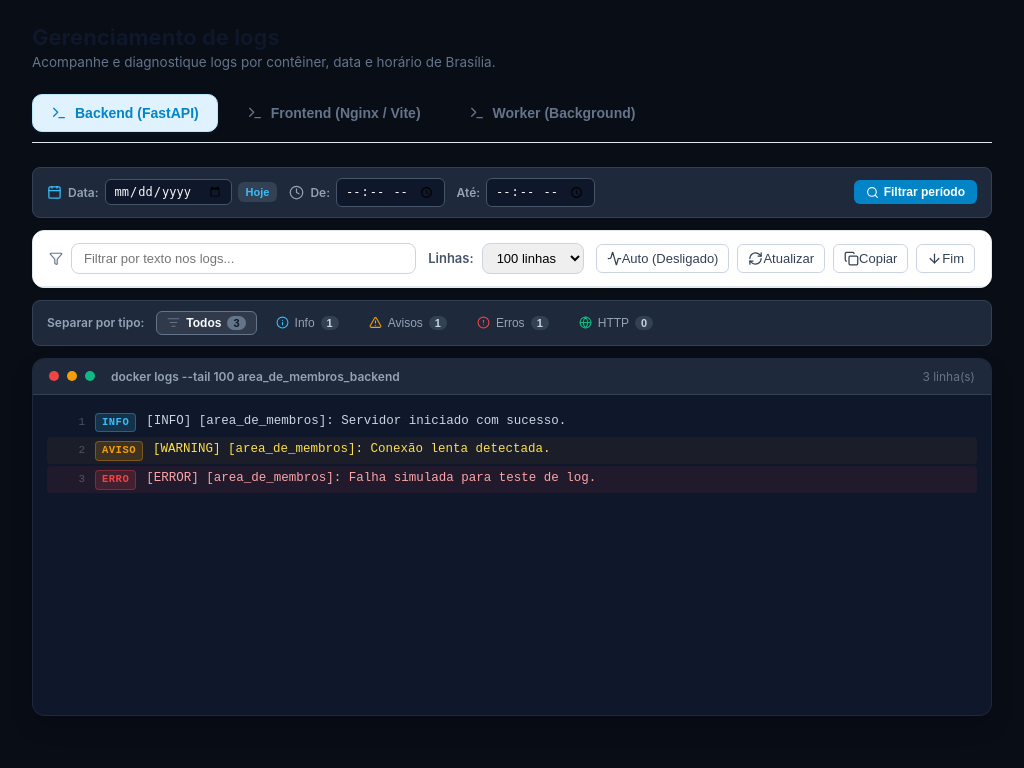
Test: LogManagement Component › filters logs by type when clicking filter buttons
Expected: the text "[INFO] [area_de_membros]: Servidor iniciado com sucesso." is shown, [146, 414, 566, 428]
Note: Clica no filtro "Erros"
Click the button with test id "filter-btn-error" at [513, 323], box [466, 311, 560, 335]
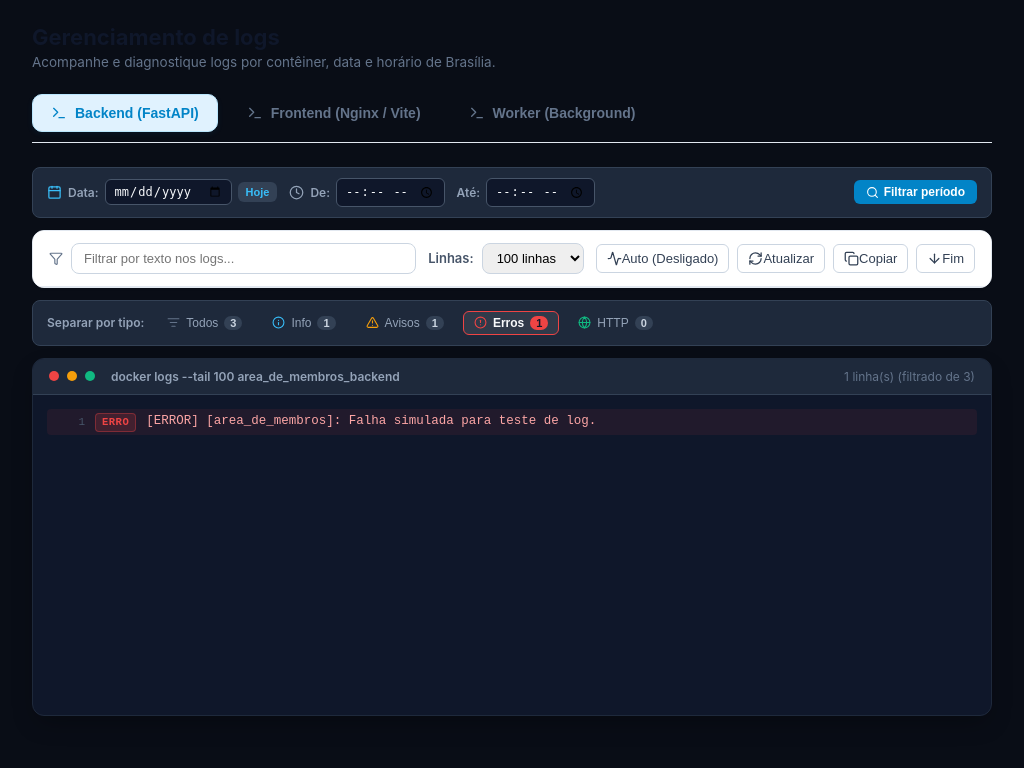
Result: the text "[ERROR] [area_de_membros]: Falha simulada para teste de log." is shown at [146, 414, 596, 428]
Result: the text "Servidor iniciado com sucesso" is gone
Result: the text "Conexão lenta detectada" is gone
Note: Clica no filtro "Avisos"
Click the button with test id "filter-btn-warning" at [405, 323], box [355, 311, 455, 335]
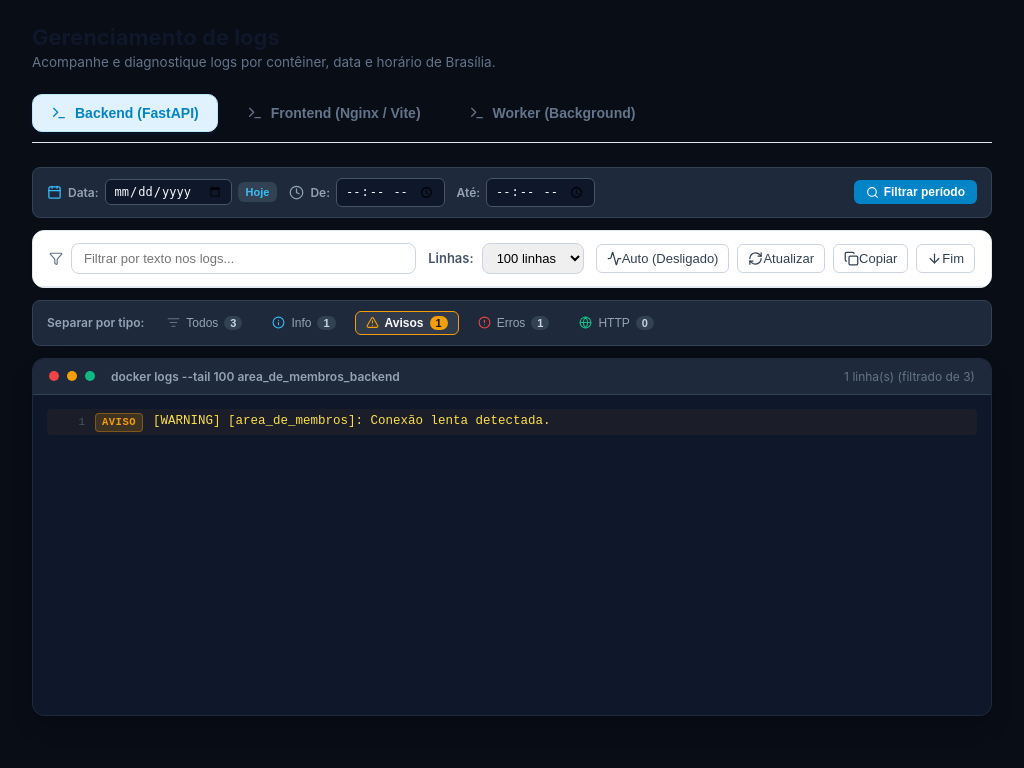
Result: the text "[WARNING] [area_de_membros]: Conexão lenta detectada." is shown at [153, 414, 551, 428]
Result: the text "Falha simulada para teste de log" is gone
